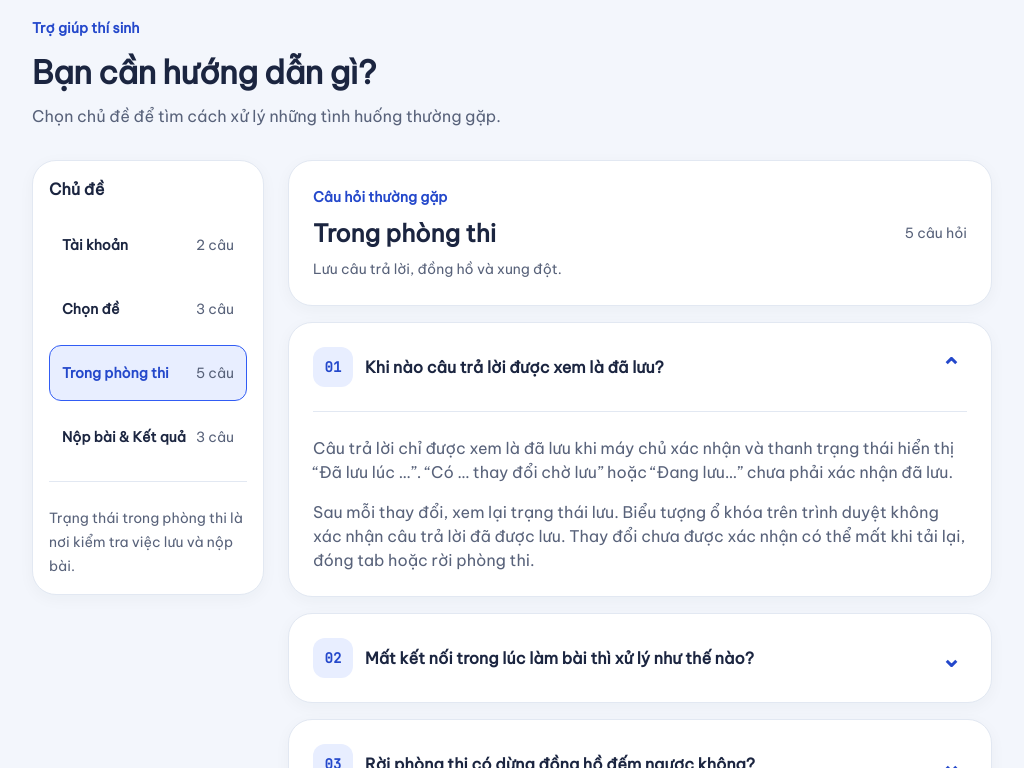
Test: returns to an examination topic with a fresh disclosure instead of the previous topic answer
Click the button "Chọn đề 3 câu" at (148, 309), box [49,281,247,337]
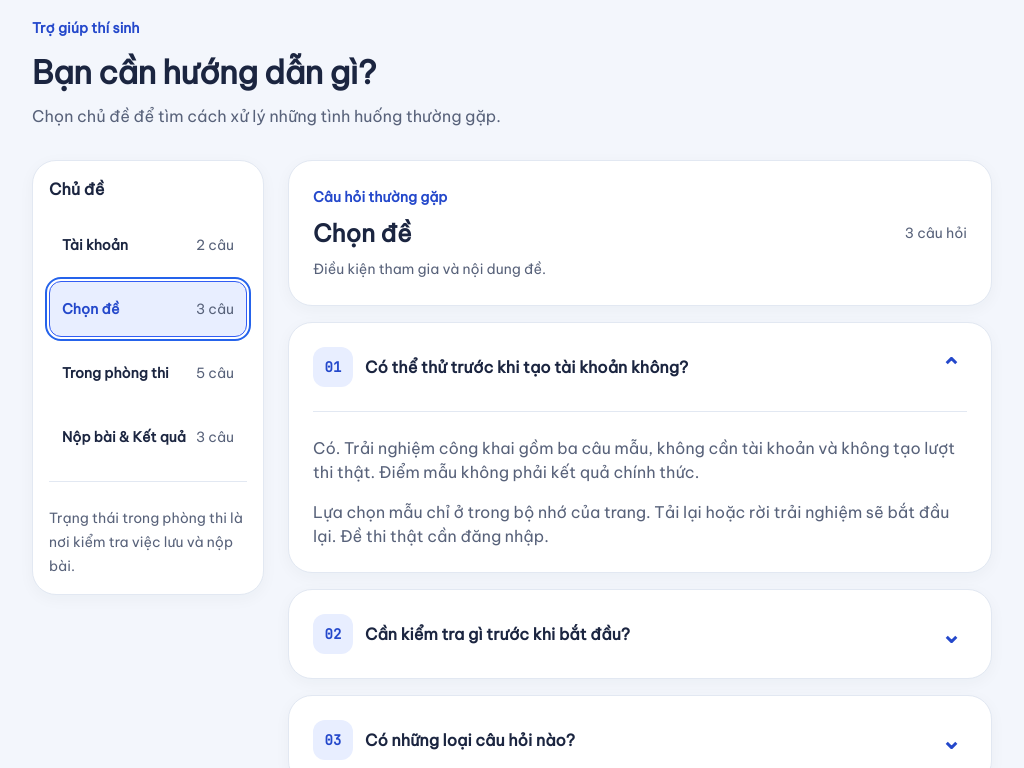
Expected: the text "Có những loại câu hỏi nào?" is shown, [365,730,575,750]
Click the button "Trong phòng thi 5 câu" at (148, 373), box [49,345,247,401]
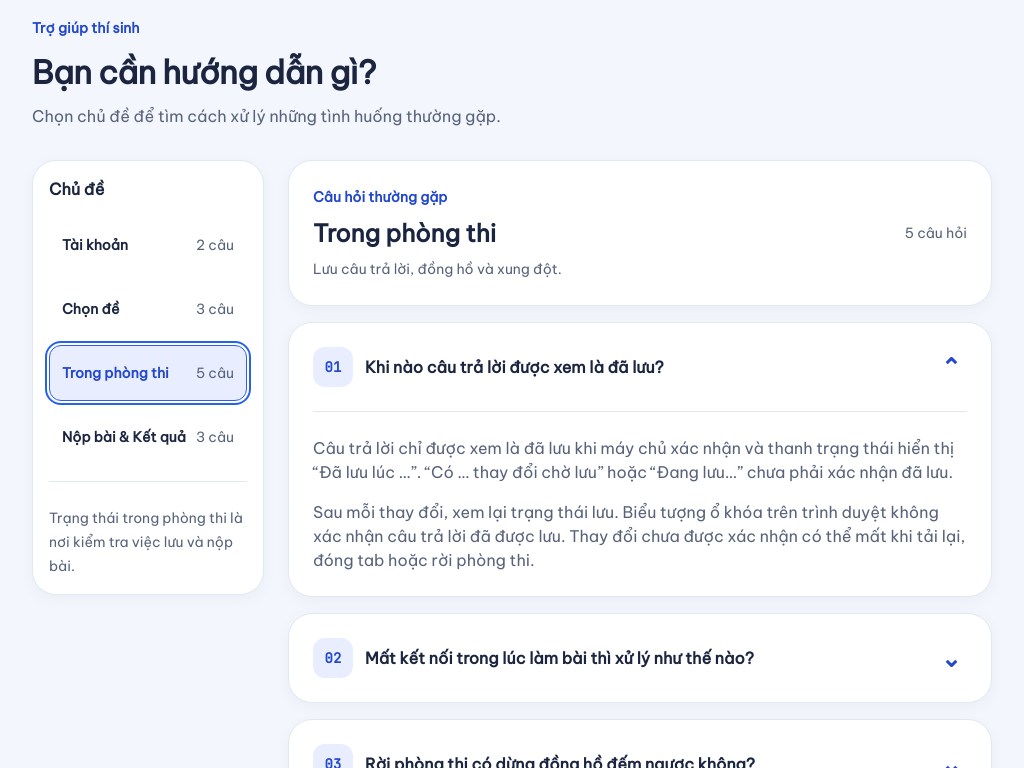
Expected: the text "máy chủ xác nhận" is shown, [313,438,954,482]
Expected: the heading "Có những loại câu hỏi nào?" is gone
